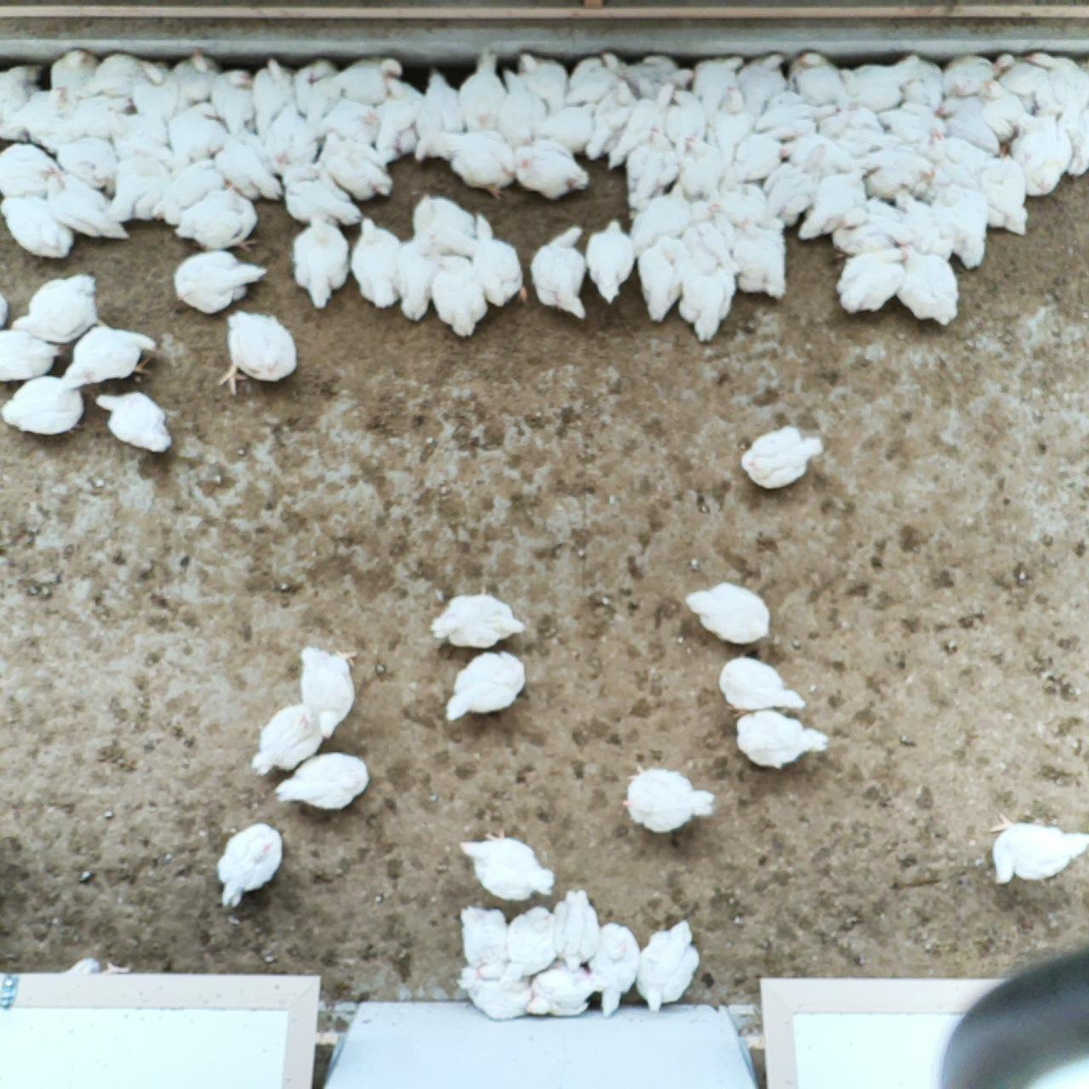chicken: (982, 808, 1089, 890), (405, 126, 519, 201), (213, 304, 304, 396), (457, 824, 561, 904), (6, 272, 115, 344), (36, 163, 132, 244), (619, 761, 720, 837), (628, 914, 703, 1013), (999, 102, 1075, 199), (737, 420, 831, 498), (209, 114, 285, 207), (212, 817, 289, 908), (732, 705, 833, 774), (60, 322, 164, 389), (892, 234, 966, 327), (442, 647, 533, 722), (172, 247, 271, 315), (926, 177, 994, 275), (468, 210, 532, 314), (604, 80, 677, 170), (423, 245, 491, 341), (275, 747, 375, 812), (294, 640, 358, 741), (168, 183, 260, 252), (828, 192, 916, 264), (764, 137, 832, 230), (247, 700, 327, 779), (795, 161, 875, 240), (277, 161, 365, 232), (886, 182, 963, 263), (673, 245, 736, 343), (834, 238, 912, 317), (529, 222, 590, 322), (682, 581, 774, 647), (292, 208, 350, 312), (426, 594, 525, 652), (93, 388, 177, 456), (850, 141, 939, 205), (318, 127, 396, 200), (720, 653, 806, 719), (143, 158, 225, 227), (621, 129, 686, 216), (974, 149, 1035, 239), (588, 918, 643, 1017), (392, 226, 447, 325), (316, 45, 405, 106), (0, 189, 77, 259), (0, 372, 85, 435), (509, 137, 594, 200), (731, 215, 791, 304), (107, 145, 176, 222), (51, 92, 135, 155), (351, 213, 405, 310), (680, 193, 743, 276), (816, 99, 906, 157), (164, 96, 230, 175), (407, 189, 480, 259), (1020, 43, 1089, 117), (101, 104, 175, 172), (453, 961, 531, 1025), (525, 961, 605, 1022), (629, 178, 694, 253), (370, 75, 424, 165), (488, 68, 548, 149), (845, 50, 926, 110), (83, 48, 165, 107), (922, 122, 992, 191), (635, 232, 686, 326), (584, 213, 636, 305), (990, 45, 1057, 116), (759, 86, 841, 144), (455, 48, 507, 137), (786, 46, 854, 114), (582, 79, 640, 158), (704, 85, 759, 168), (933, 90, 1003, 155), (774, 128, 862, 179), (723, 132, 803, 188), (728, 50, 791, 121), (617, 45, 698, 100), (550, 885, 600, 974), (262, 100, 321, 175), (875, 92, 947, 153), (503, 907, 564, 978), (410, 67, 470, 139), (245, 50, 298, 131), (509, 45, 570, 115), (941, 48, 1023, 100), (658, 80, 708, 165), (131, 57, 189, 129), (901, 53, 961, 122), (458, 902, 509, 980), (20, 83, 76, 153), (686, 49, 747, 113), (0, 56, 44, 144), (707, 188, 789, 235), (971, 73, 1028, 140), (0, 323, 60, 386), (292, 54, 346, 124), (531, 100, 601, 154), (674, 133, 728, 203), (0, 141, 64, 200), (50, 135, 118, 190), (564, 45, 625, 105), (162, 47, 224, 105), (1051, 92, 1089, 184), (48, 45, 110, 99), (210, 64, 258, 132), (316, 94, 380, 143), (62, 955, 131, 980)
